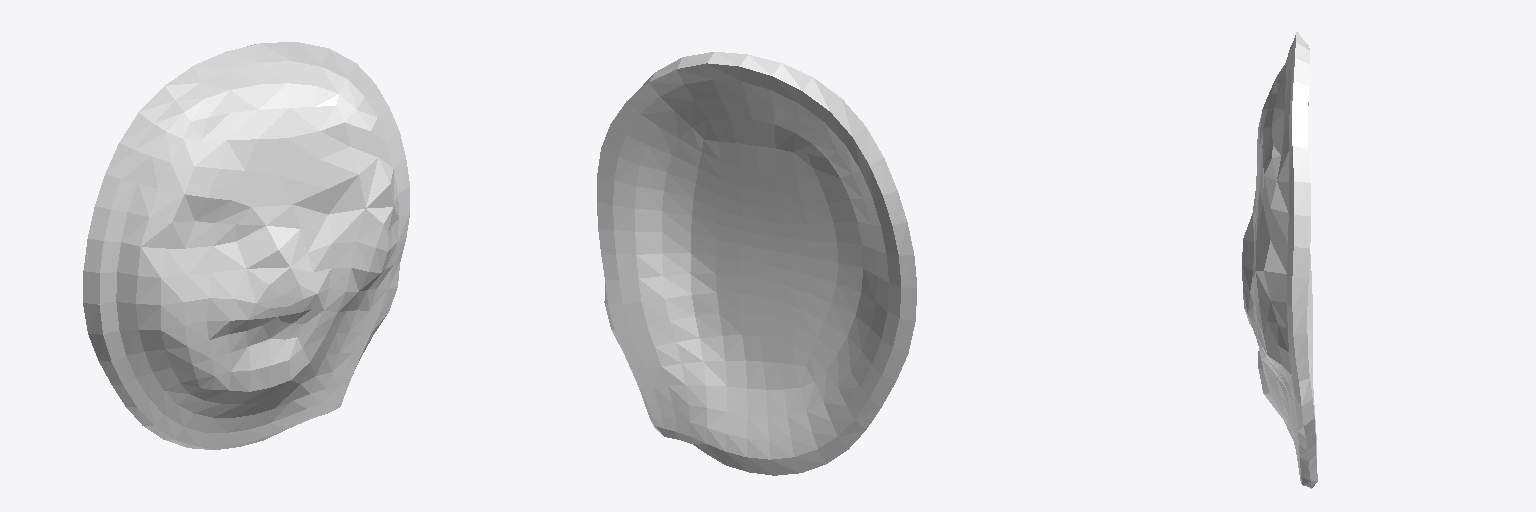
Rendered from mask_1.obj.
3 views of the same model, side by side, from view 1: azimuth 30°, elevation 25°; view 2: azimuth 150°, elevation 25°; view 3: azimuth 270°, elevation 25° (orthographic).
Parts seen in each view (by area): view 1: Volume12; view 2: Volume12; view 3: Volume12.
Boxes of the visible parts, box(x1,y1,x2,y2) form: Volume12: box(83, 42, 409, 449); Volume12: box(597, 52, 916, 475); Volume12: box(1242, 32, 1317, 488).
Size of the model in its own units: 44.59 by 54 by 9.09.